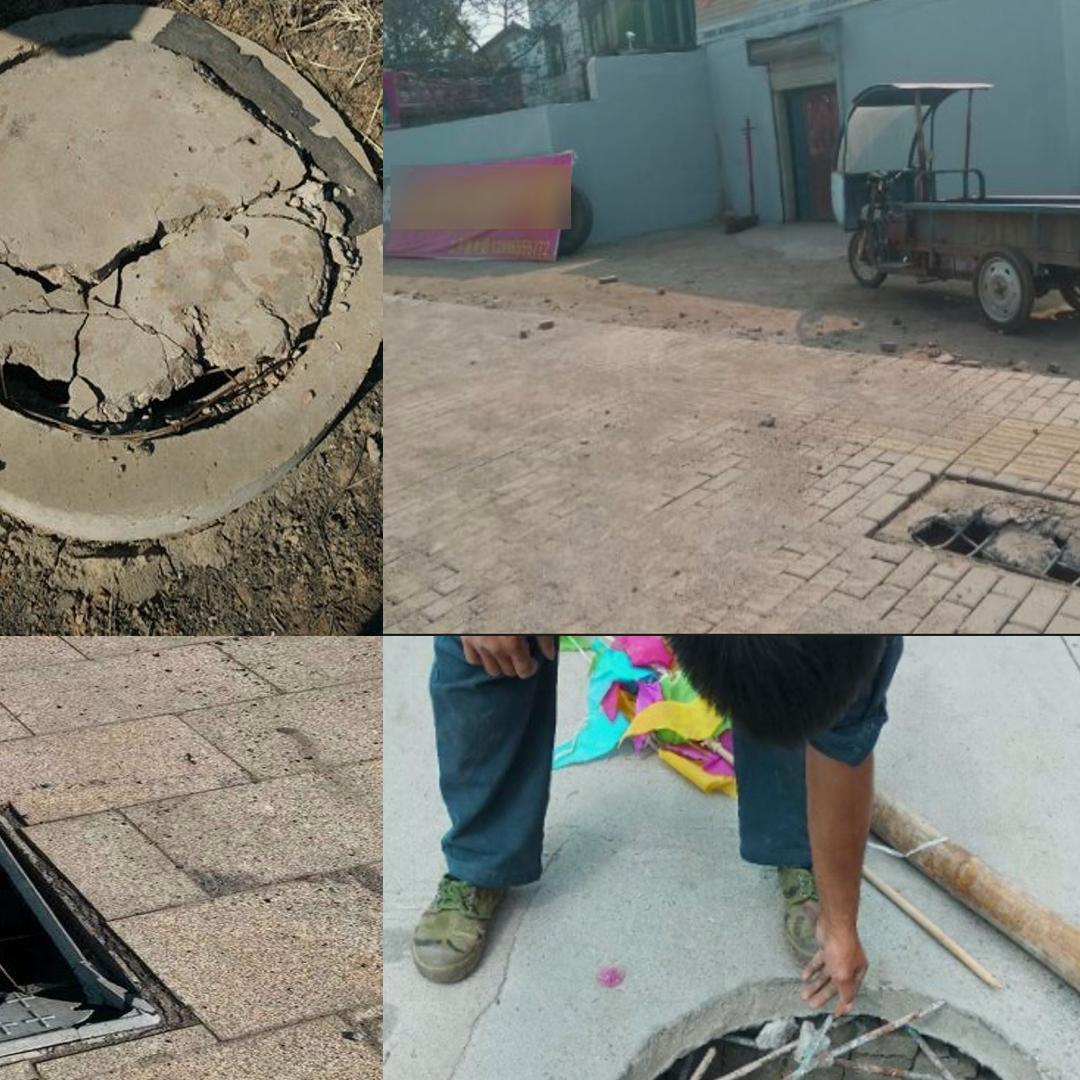broke: (0, 0, 366, 529), (0, 794, 201, 1080), (589, 983, 1080, 1080), (864, 469, 1080, 628)
